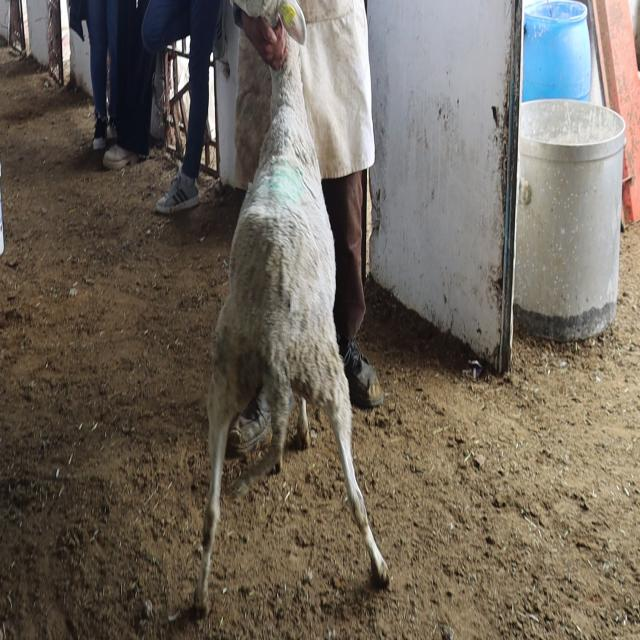Score_1: (194, 0, 389, 609)
